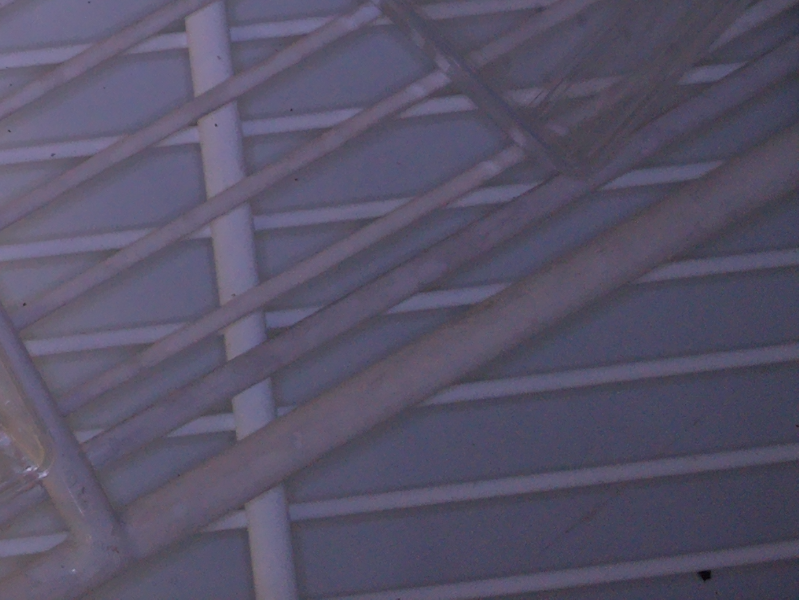plate: (379, 1, 744, 179), (1, 363, 59, 490)
